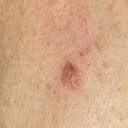Carcinoma: (59, 60, 86, 88)
